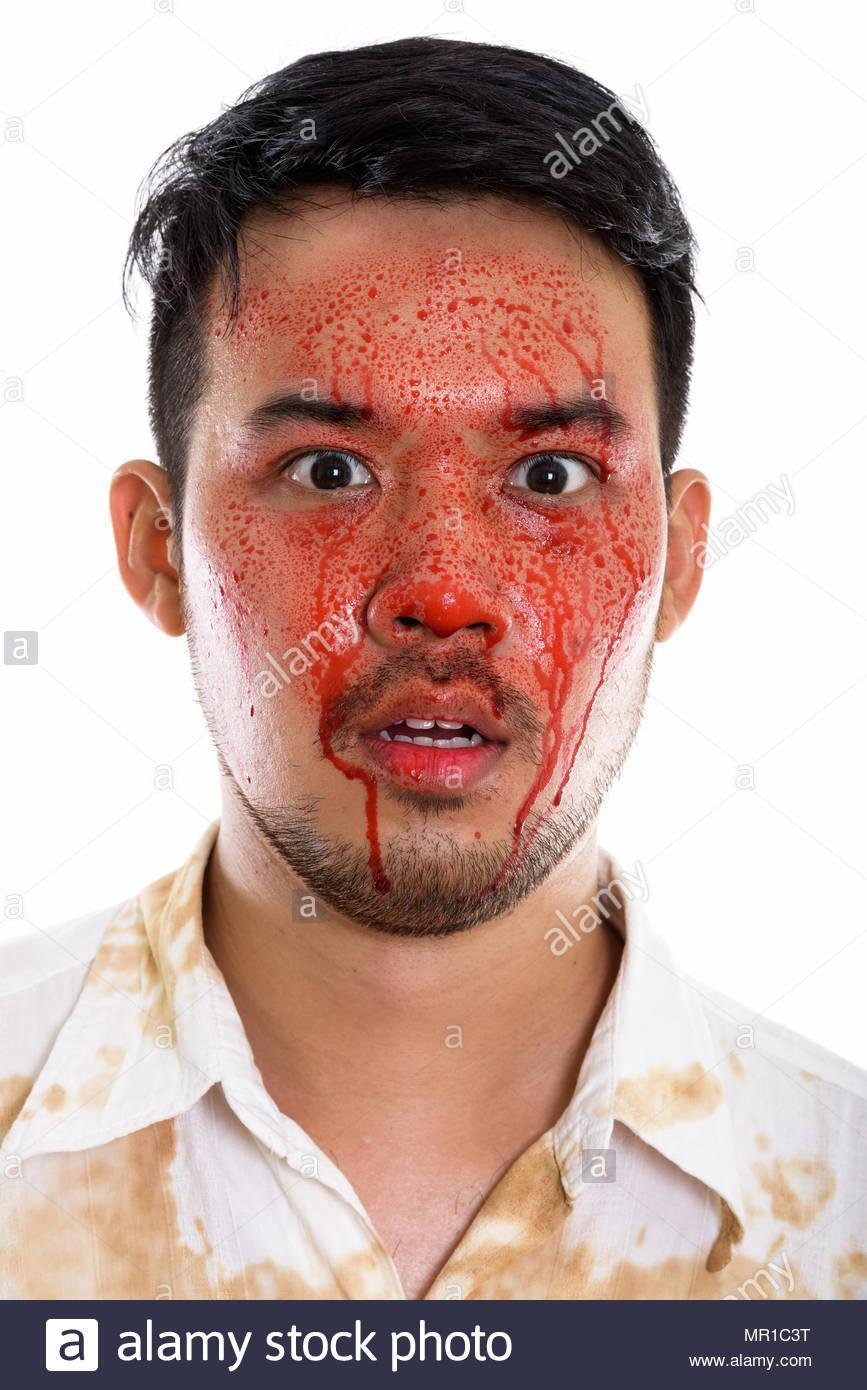Fire: (183, 237, 695, 934)
